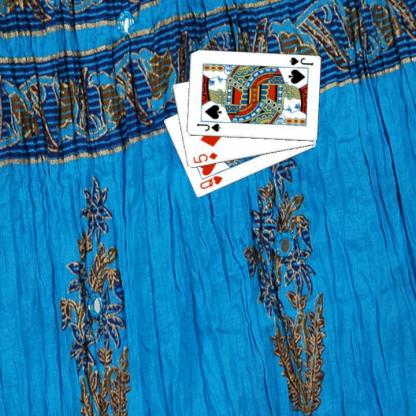5D: (191, 150, 218, 164)
JS: (194, 121, 221, 133), (286, 55, 314, 66)
QH: (197, 173, 224, 191)
